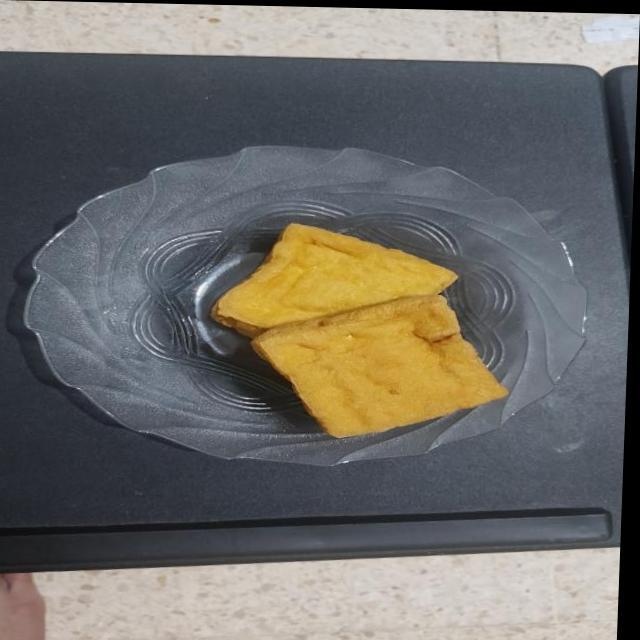tahu_goreng: (252, 295, 508, 438), (212, 224, 458, 338)
